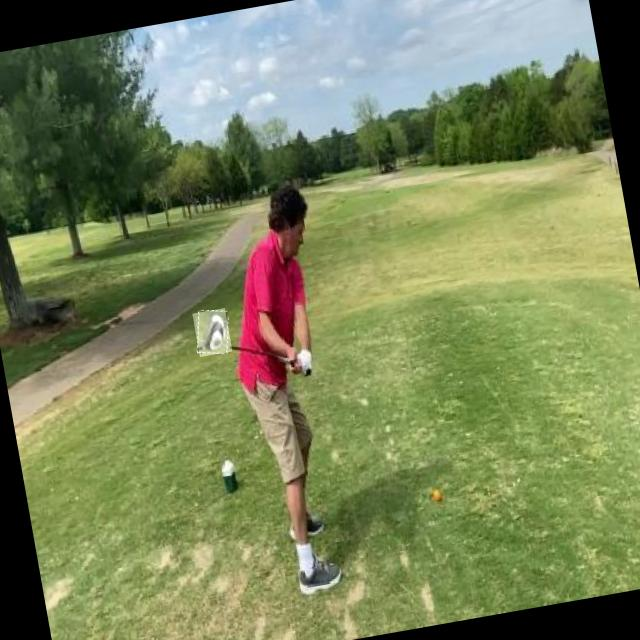club head: (192, 308, 232, 357)
